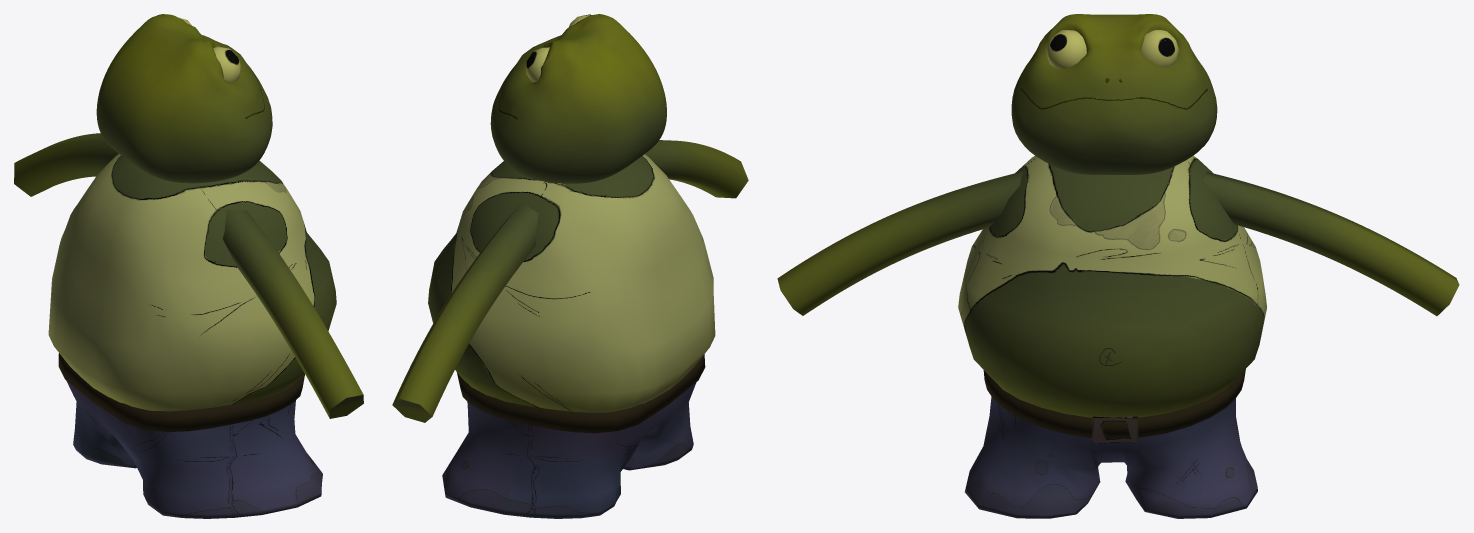
File: EricFrogman.fbx
The picture shows the model from 3 angles, left to right: view 1: azimuth 30°, elevation 25°; view 2: azimuth 150°, elevation 25°; view 3: azimuth 270°, elevation 25°; orthographic projection. The views are drawn at different scales.
Visible parts, largest first — view 1: Body, Head, Pants, LArm, Belts, RArm, LEyeball; view 2: Body, Head, Pants, RArm, Belts, LArm, REyeball; view 3: Body, Head, Pants, RArm, LArm, Belts, LEyeball, REyeball, Plane.
Part boxes in pixels (x1,y1,x2,y2): Body: [48, 154, 336, 411]; Head: [96, 14, 272, 183]; Pants: [66, 381, 322, 518]; LArm: [222, 209, 363, 418]; Belts: [58, 353, 304, 432]; RArm: [14, 133, 118, 196]; LEyeball: [213, 46, 241, 82]; Body: [428, 154, 715, 412]; Head: [490, 14, 666, 183]; Pants: [442, 382, 696, 518]; RArm: [392, 203, 538, 422]; Belts: [457, 354, 705, 433]; LArm: [645, 140, 748, 198]; REyeball: [526, 47, 549, 81]; Body: [958, 156, 1266, 417]; Head: [1011, 14, 1217, 174]; Pants: [965, 396, 1257, 518]; RArm: [1203, 172, 1459, 316]; LArm: [777, 171, 1023, 315]; Belts: [983, 369, 1245, 438]; LEyeball: [1046, 30, 1086, 69]; REyeball: [1141, 30, 1179, 66]; Plane: [1092, 416, 1138, 444].
Size of the model in its own units: 470 by 838 by 1138.
